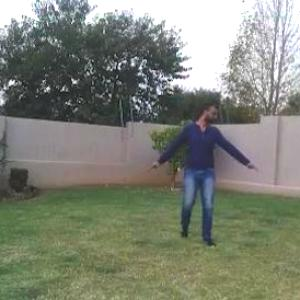land: (148, 91, 259, 244)
